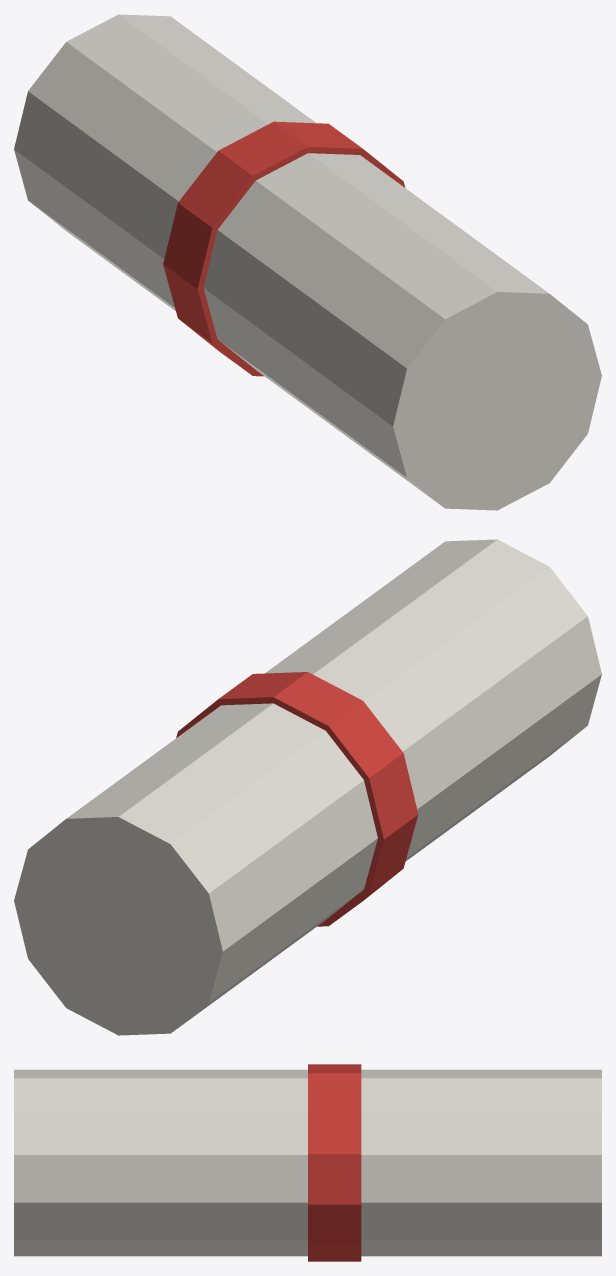
File: prop_poster_p0.glb
The picture shows the model from 3 angles, top to bottom: view 1: azimuth 30°, elevation 25°; view 2: azimuth 150°, elevation 25°; view 3: azimuth 270°, elevation 25°; orthographic projection. The views are drawn at different scales.
Visible parts, largest first — view 1: prop_poster_p0_mesh; view 2: prop_poster_p0_mesh; view 3: prop_poster_p0_mesh.
Part boxes in pixels (x1,y1,x2,y2): prop_poster_p0_mesh: [14, 14, 601, 510]; prop_poster_p0_mesh: [14, 539, 601, 1035]; prop_poster_p0_mesh: [14, 1064, 601, 1261].
Bounding box in the file's own units: 0.074 × 0.074 × 0.22.
